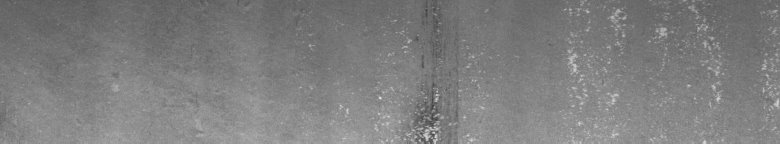hc: (309, 7, 483, 136)
